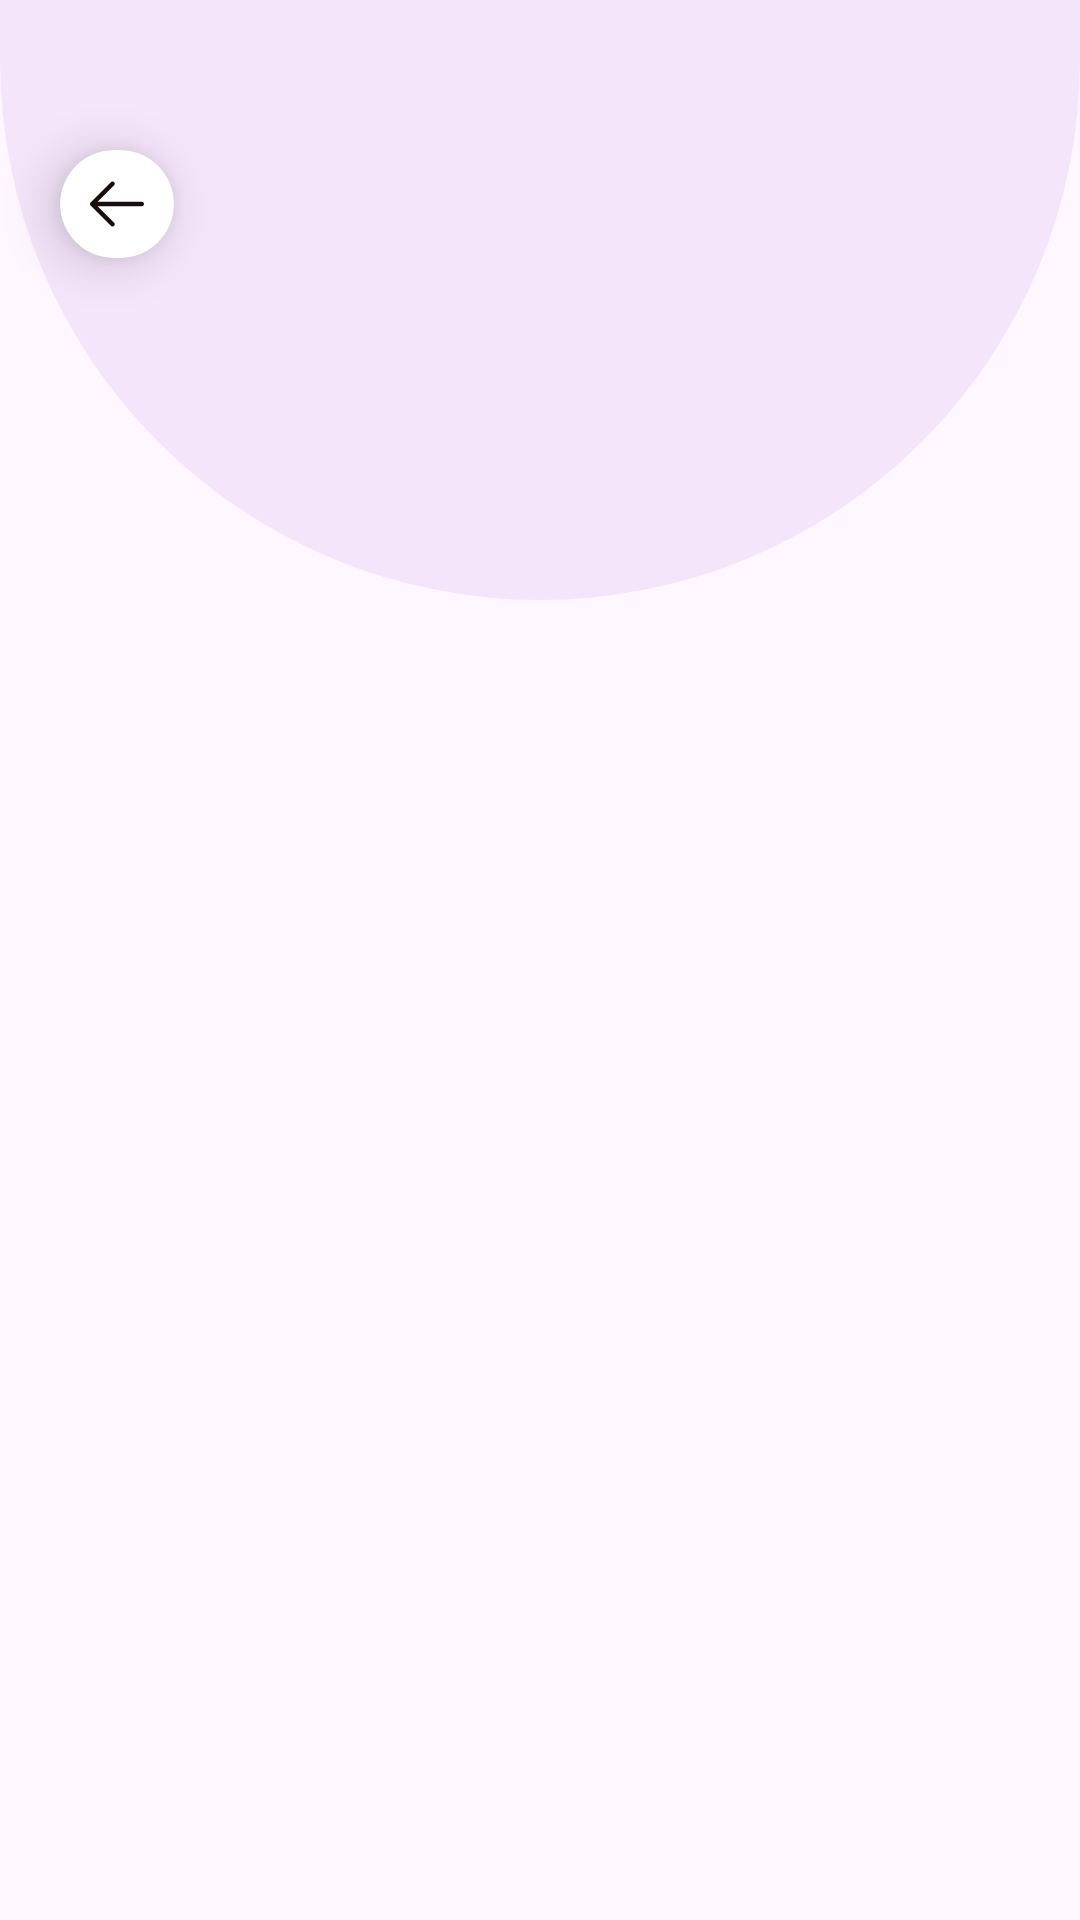

Where icons sit on this 1080w x 1920h app screen, as {"left": x1, "top": y1, "right": x2, "bottom": y2}:
back: {"left": 90, "top": 181, "right": 144, "bottom": 227}
